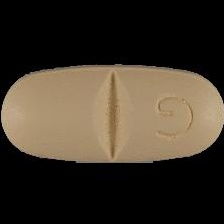21695-864: (0, 0, 224, 224)
